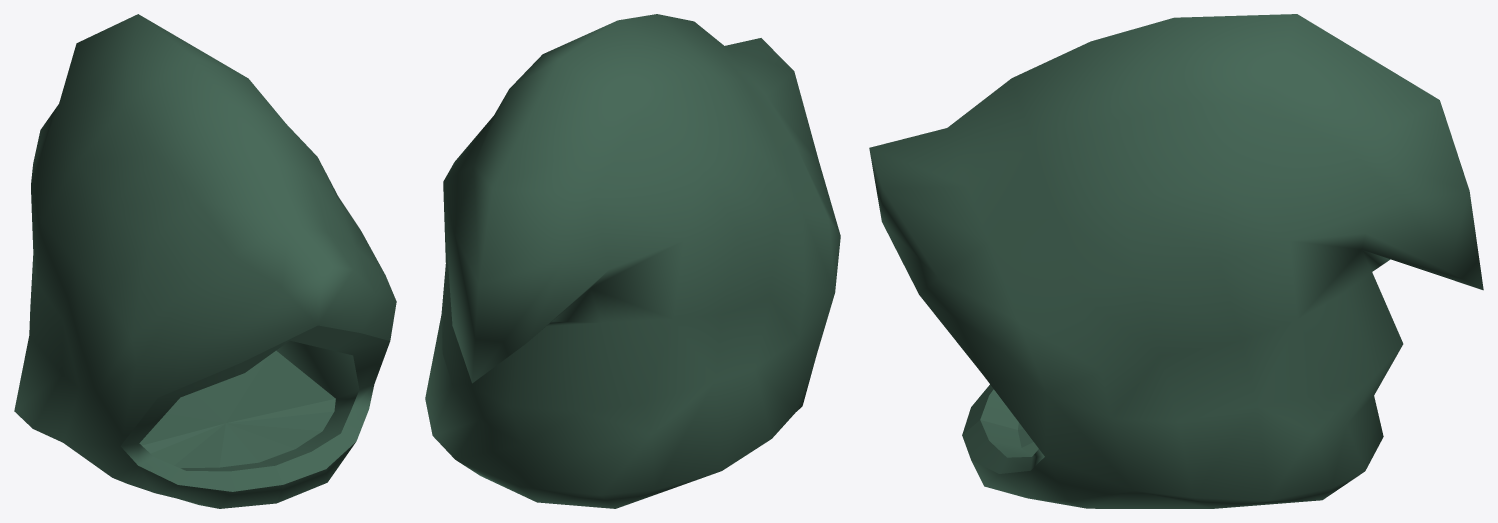
The model's file is Headgear_34.fbx.
3 renders of one model, left to right at view 1: azimuth 30°, elevation 25°; view 2: azimuth 150°, elevation 25°; view 3: azimuth 270°, elevation 25°, orthographic. The views are drawn at different scales.
Visible parts, largest first — view 1: Headgear_34; view 2: Headgear_34; view 3: Headgear_34.
Part boxes in pixels (<box>): Headgear_34: <box>14,14,396,508</box>; Headgear_34: <box>425,14,840,508</box>; Headgear_34: <box>869,14,1483,508</box>.
Bounding box in the file's own units: 57.96 × 73.5 × 88.84.
